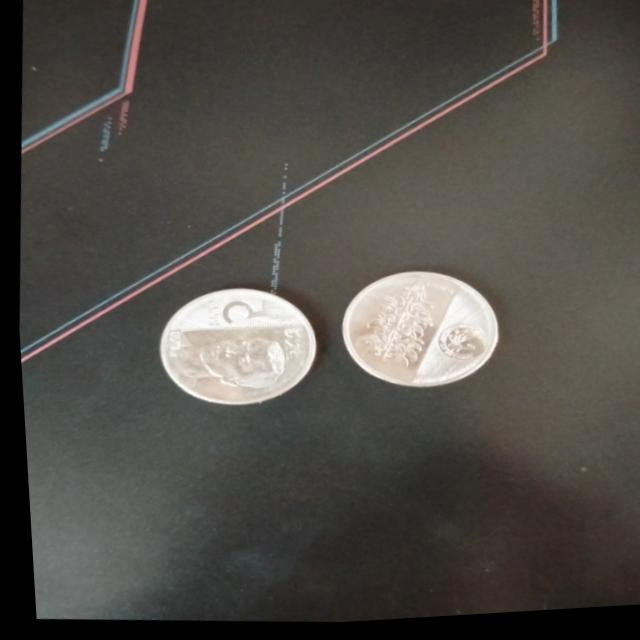5_New_Back: (331, 272, 434, 379)
5_New_Front: (192, 281, 277, 340)
